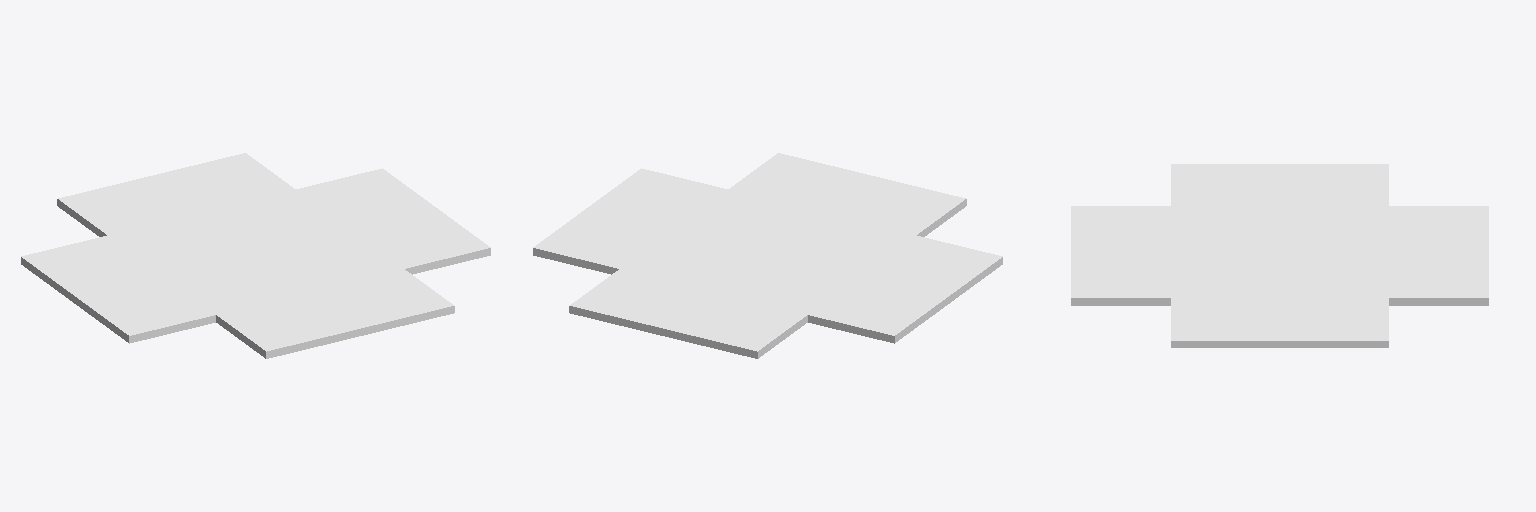
The model's file is CrossRoads.obj.
3 renders of one model, left to right at view 1: azimuth 30°, elevation 25°; view 2: azimuth 150°, elevation 25°; view 3: azimuth 270°, elevation 25°, orthographic.
Bounding box in the file's own units: 50 × 1 × 50.